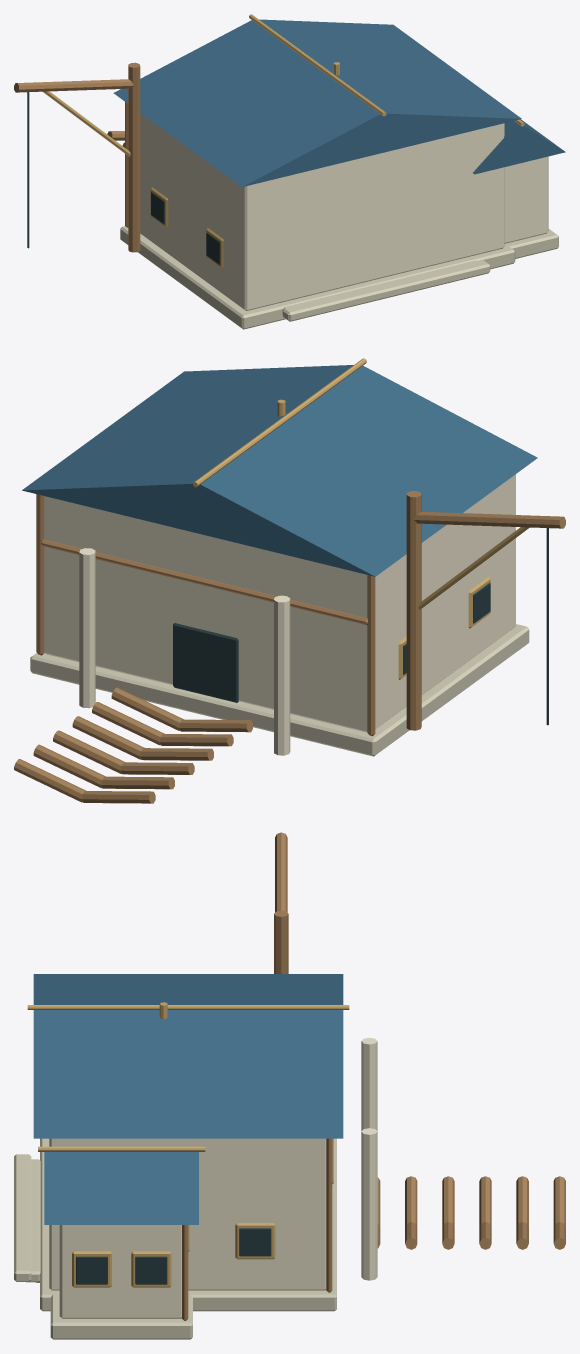
The model's file is level_28.glb.
The picture shows the model from 3 angles, top to bottom: view 1: azimuth 30°, elevation 25°; view 2: azimuth 150°, elevation 25°; view 3: azimuth 270°, elevation 25°; orthographic projection. The views are drawn at different scales.
Parts seen in each view (by area): view 1: shipyard — level 28; view 2: shipyard — level 28; view 3: shipyard — level 28.
Part boxes in pixels (box(x1,y1,x2,y2)): shipyard — level 28: box(14, 14, 565, 329); shipyard — level 28: box(14, 358, 565, 803); shipyard — level 28: box(14, 832, 565, 1339).
Size of the model in its own units: 10.13 by 4.41 by 8.92.
